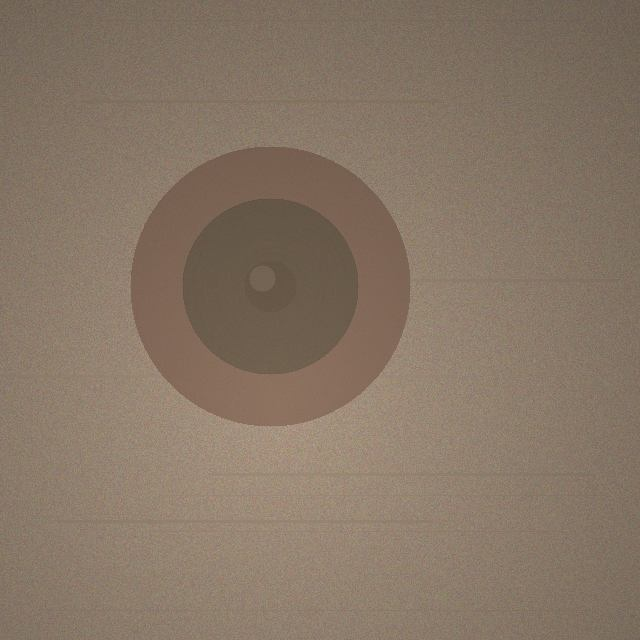good: (130, 146, 410, 426)
